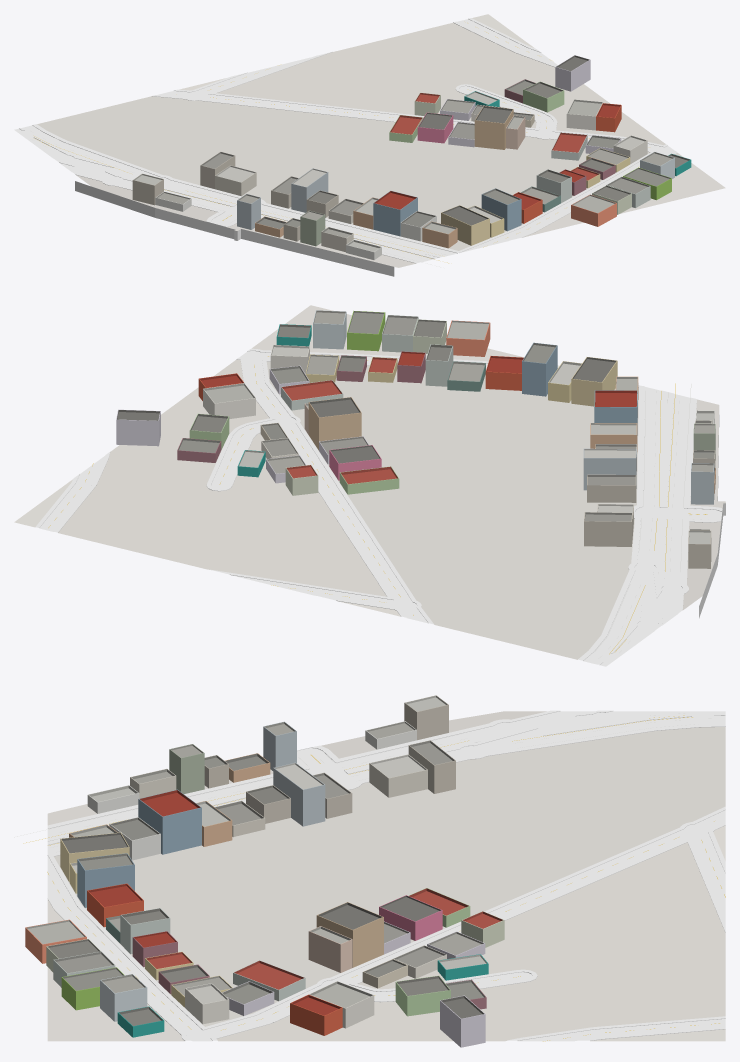
The picture shows the model from 3 angles, top to bottom: view 1: azimuth 30°, elevation 25°; view 2: azimuth 150°, elevation 25°; view 3: azimuth 270°, elevation 25°; orthographic projection. The views are drawn at different scales.
Parts seen in each view (by area): view 1: ground, walls, roofs, asphalt, sidewalk, coast; view 2: ground, walls, roofs, asphalt, sidewalk, markings; view 3: ground, walls, roofs, asphalt, sidewalk, markings.
Boxes of the visible parts, x1=… form: ground: x1=37, y1=14, x2=725, y2=267; walls: x1=132, y1=60, x2=691, y2=259; roofs: x1=133, y1=55, x2=690, y2=251; asphalt: x1=14, y1=19, x2=674, y2=261; sidewalk: x1=19, y1=18, x2=677, y2=263; coast: x1=75, y1=181, x2=394, y2=276; ground: x1=14, y1=305, x2=725, y2=659; walls: x1=116, y1=312, x2=715, y2=568; roofs: x1=116, y1=310, x2=715, y2=544; asphalt: x1=39, y1=351, x2=722, y2=666; sidewalk: x1=35, y1=348, x2=722, y2=664; markings: x1=48, y1=356, x2=710, y2=658; ground: x1=47, y1=711, x2=725, y2=1041; walls: x1=25, y1=703, x2=504, y2=1047; roofs: x1=25, y1=695, x2=503, y2=1026; asphalt: x1=47, y1=711, x2=725, y2=1041; sidewalk: x1=47, y1=710, x2=725, y2=1040; markings: x1=14, y1=713, x2=725, y2=1041.
Size of what is drawn, in the model's own units: 258 by 18.36 by 228.
